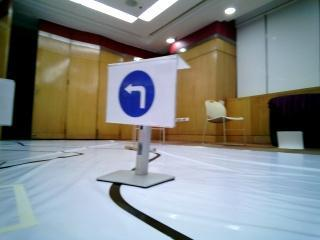left: (114, 67, 180, 123)
